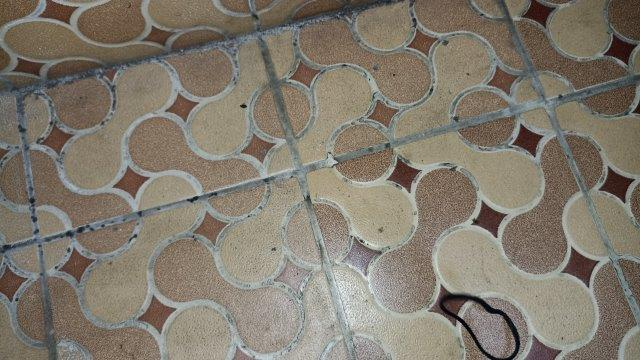karet: (440, 295, 520, 360)
